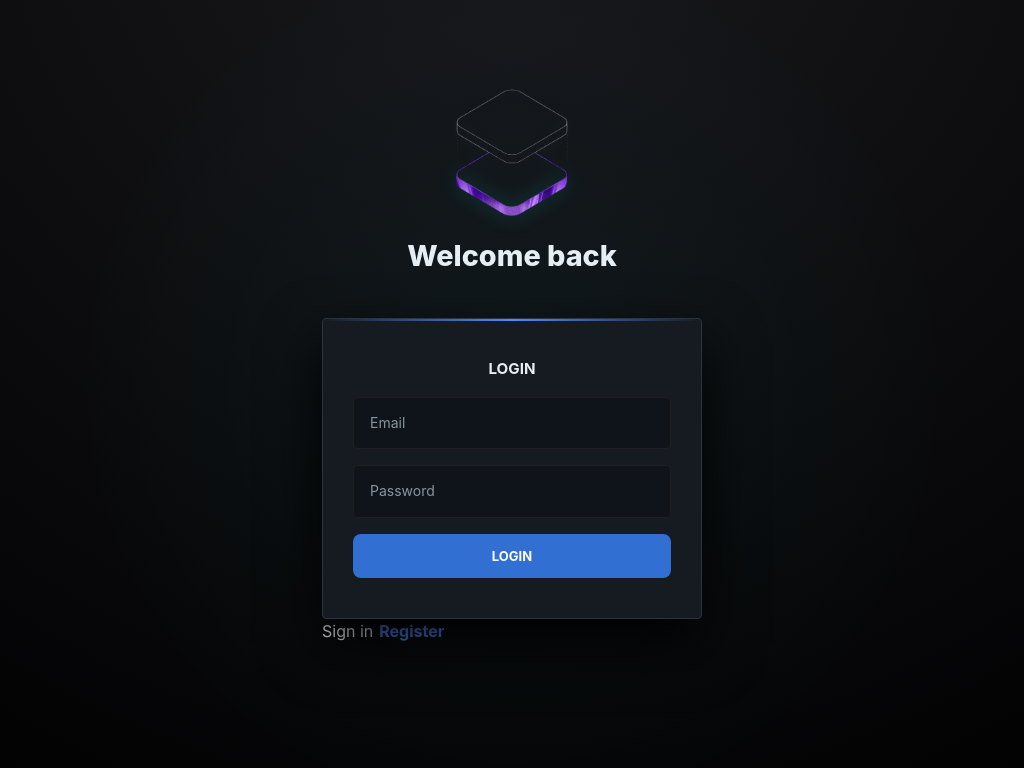
Test: Authentication Flow › should handle a login network error
Type "milica2@gmail.com" into the field with placeholder "Email" at (512, 423), box [353, 397, 671, 449]
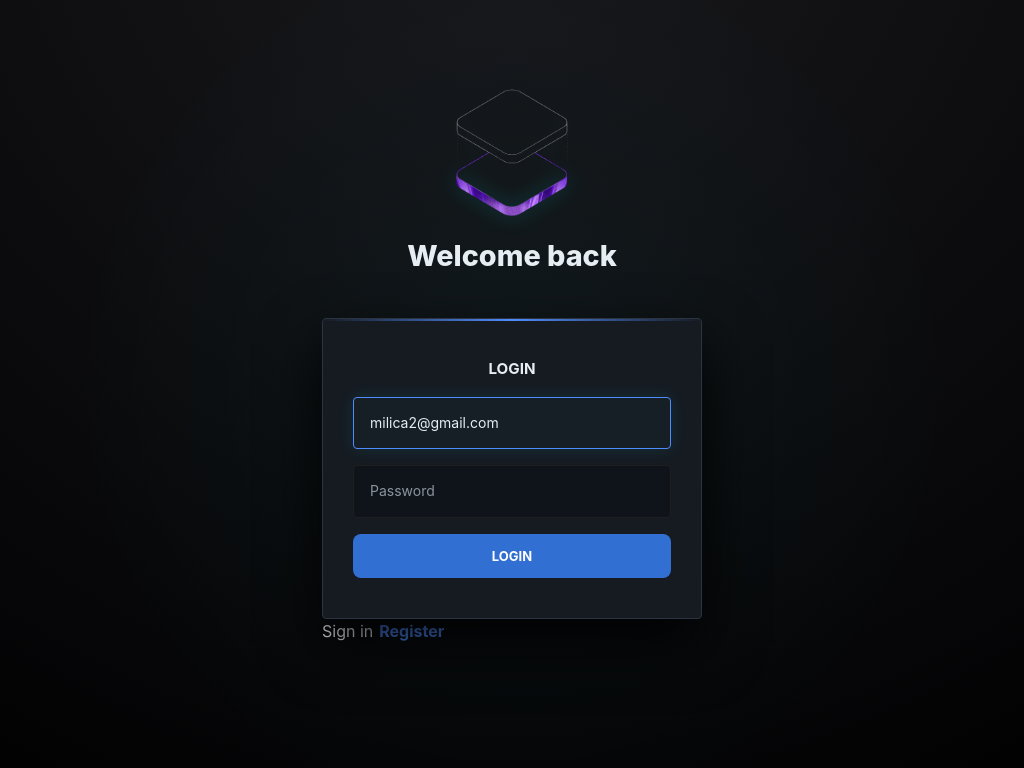
Type "123" into the password field with placeholder "Password" at (512, 491), box [353, 465, 671, 517]
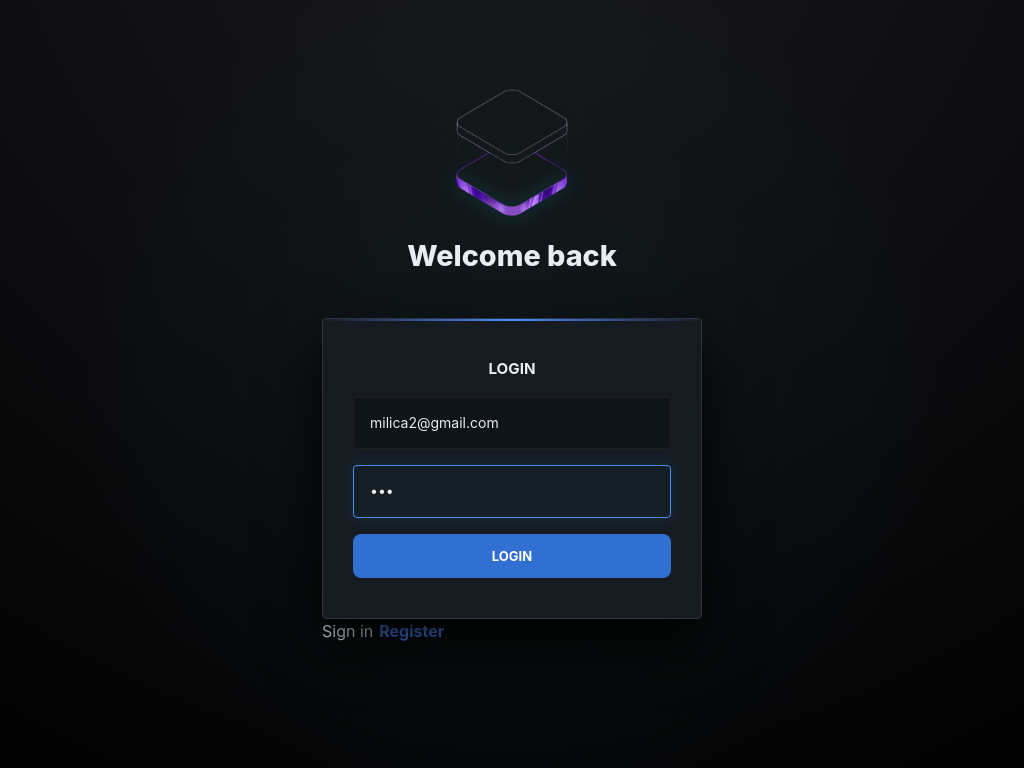
Click the submit button at (512, 557), box [353, 534, 671, 579]
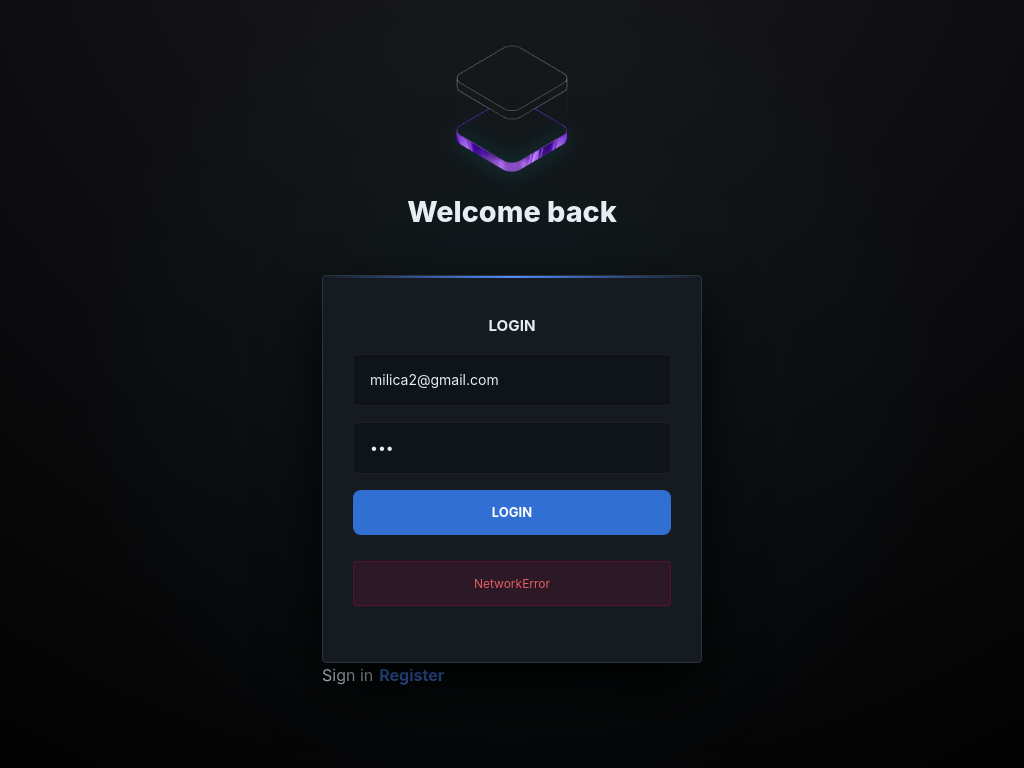
Expected: the text "NetworkError" is shown, [353, 561, 671, 606]
